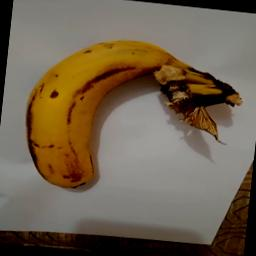Banana Unripe: (15, 24, 250, 208)
